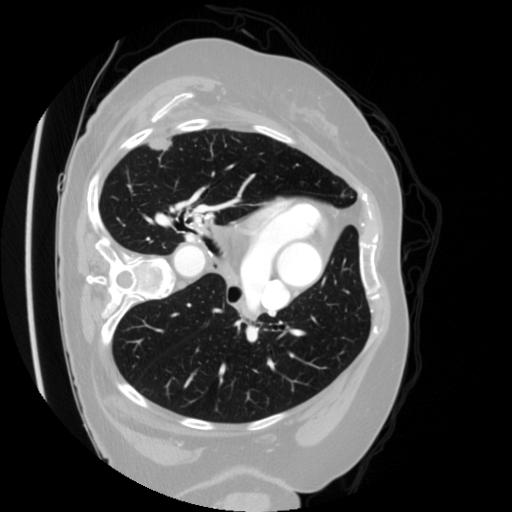nodule: (151, 136, 174, 159)
